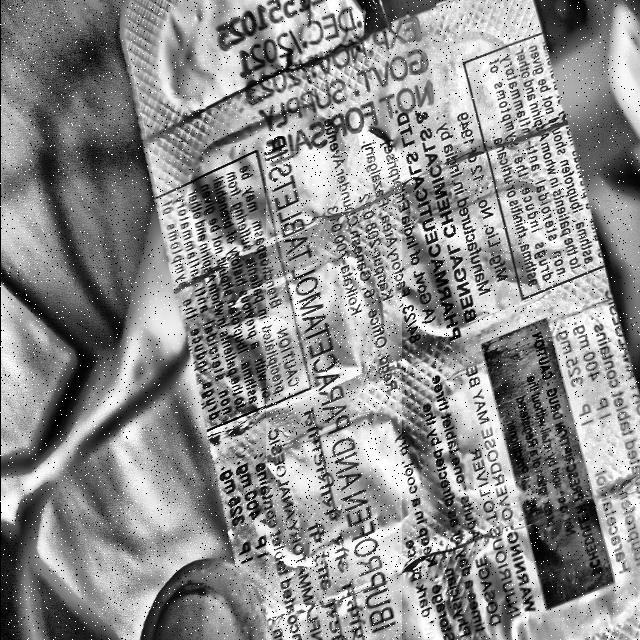IBUPROFEN AND PARACETAMOL TABLETS: (265, 151, 401, 638)
